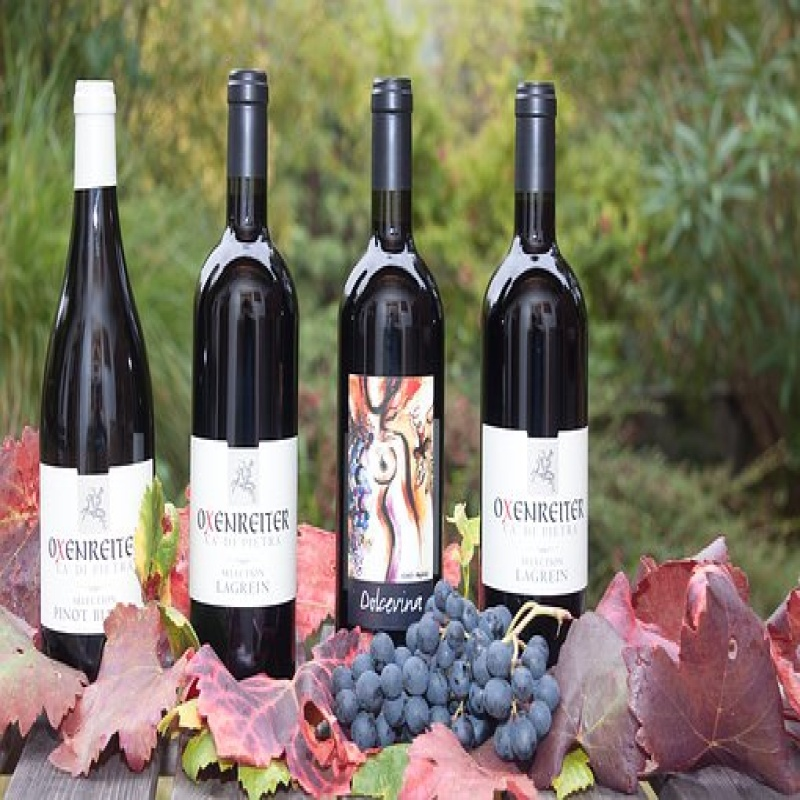wine: (43, 75, 155, 669), (188, 71, 299, 664), (477, 78, 592, 611), (337, 87, 447, 625)
